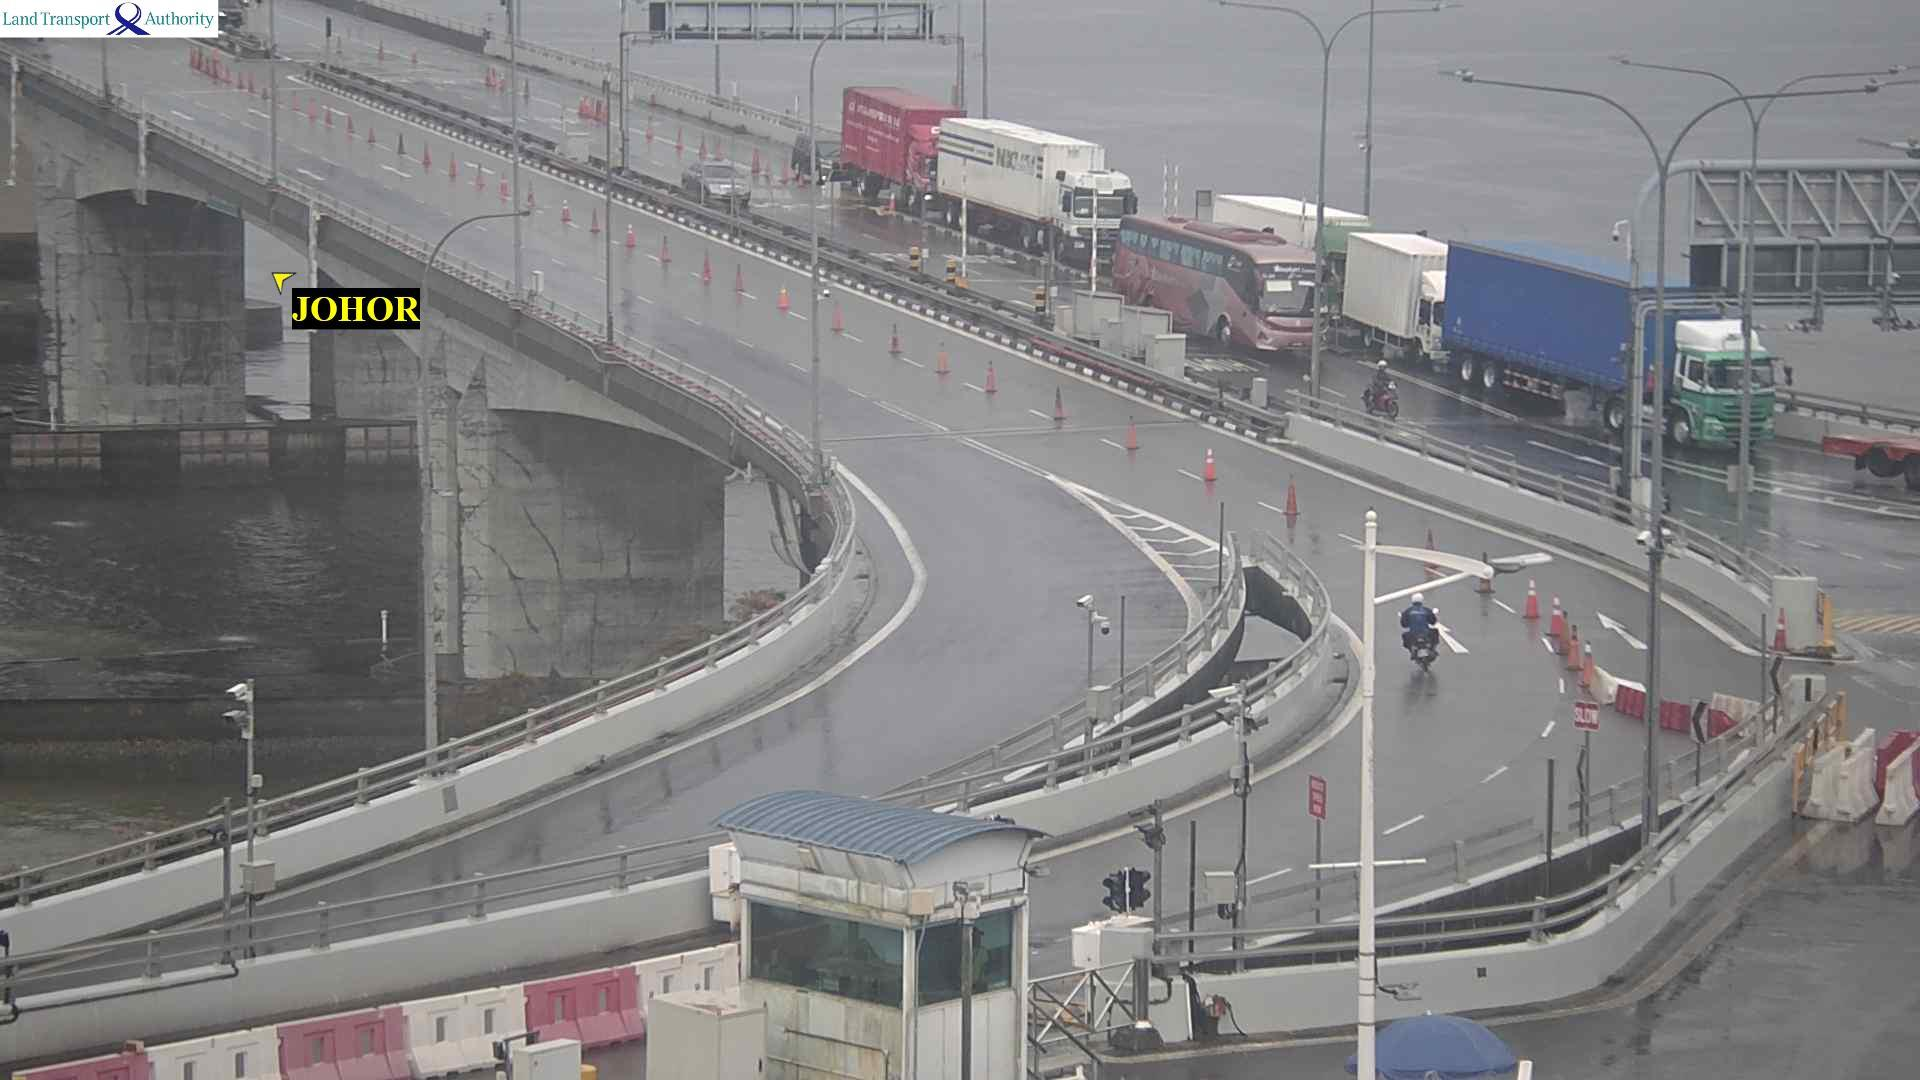vehicle-secondlink-johor: (1394, 597, 1439, 663)
vehicle-secondlink-singapore: (1445, 239, 1775, 455), (940, 115, 1137, 270), (1117, 215, 1329, 359), (1211, 193, 1371, 326), (847, 84, 968, 219), (1345, 232, 1452, 372), (791, 128, 853, 187), (683, 160, 750, 207), (1364, 360, 1398, 414)
